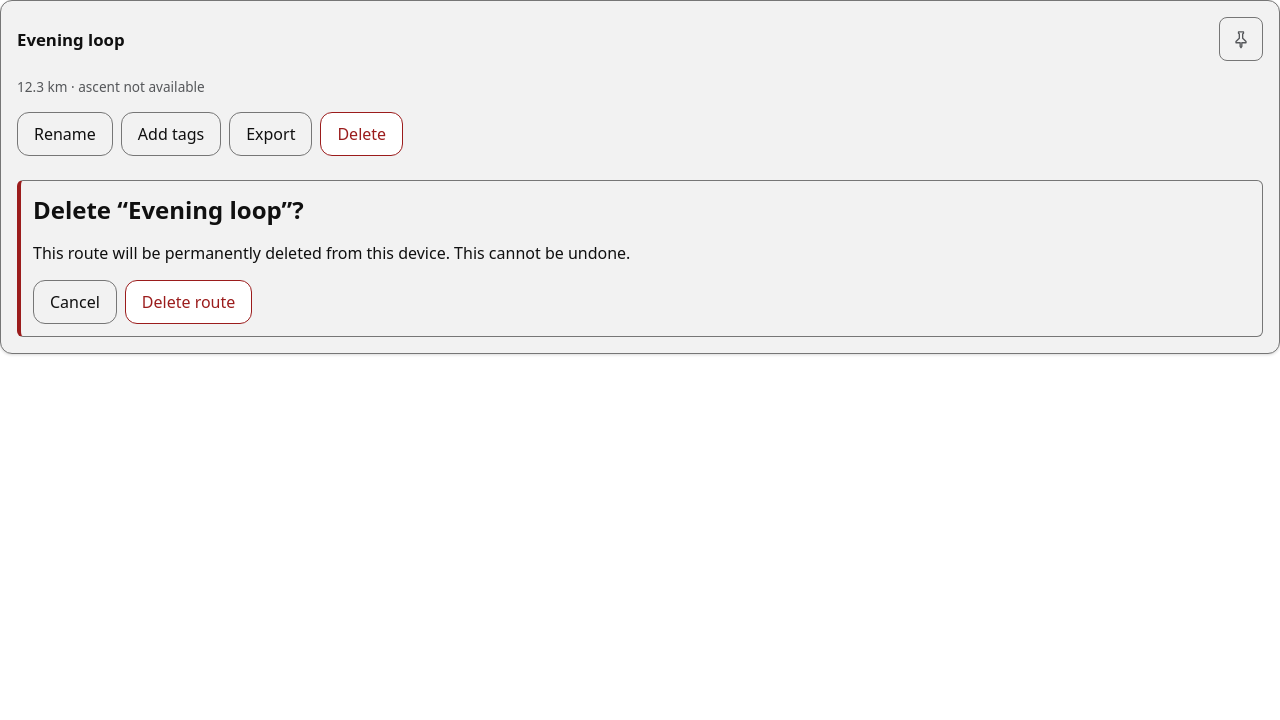
Scenario: RouteListItem › clicking Rename while this route's delete confirmation is open cancels the pending delete first, then enters rename mode
Step 1. Click the button "Rename" → (65, 134), box 17,112 -> 113,156
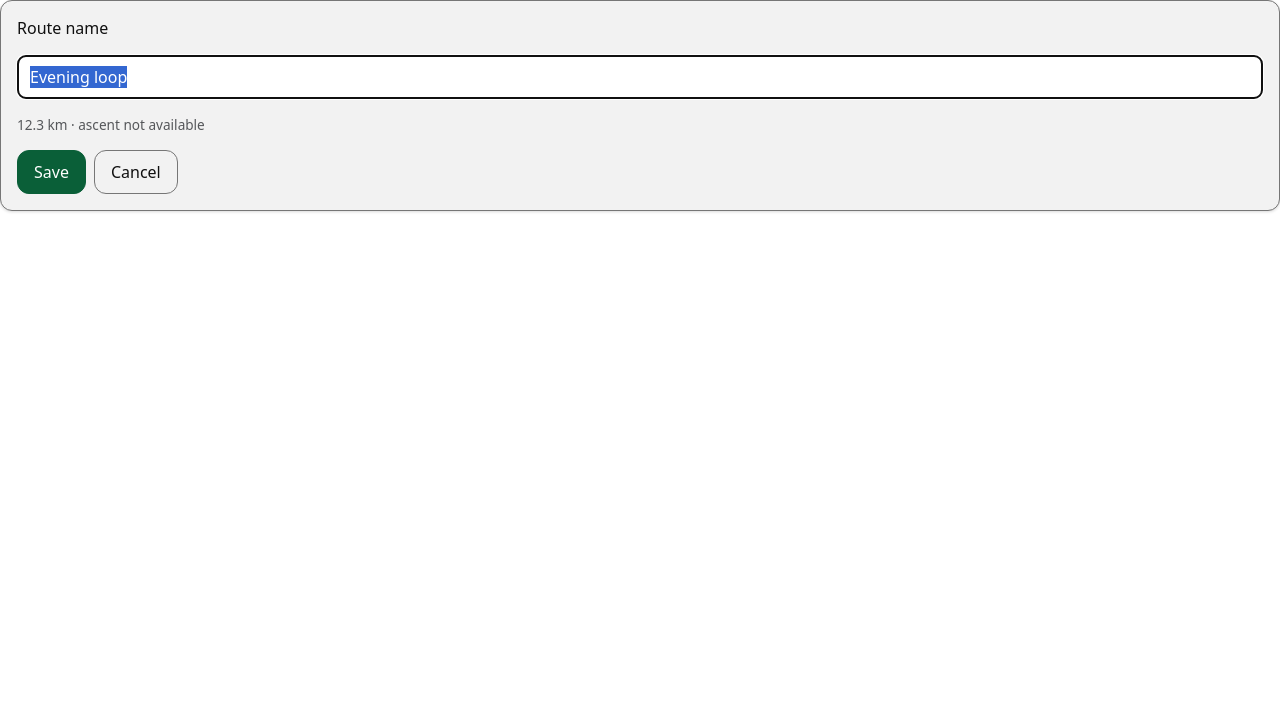
Now the field labelled "Route name" is shown, box 17,55 -> 1263,99
Now the dialog is gone
